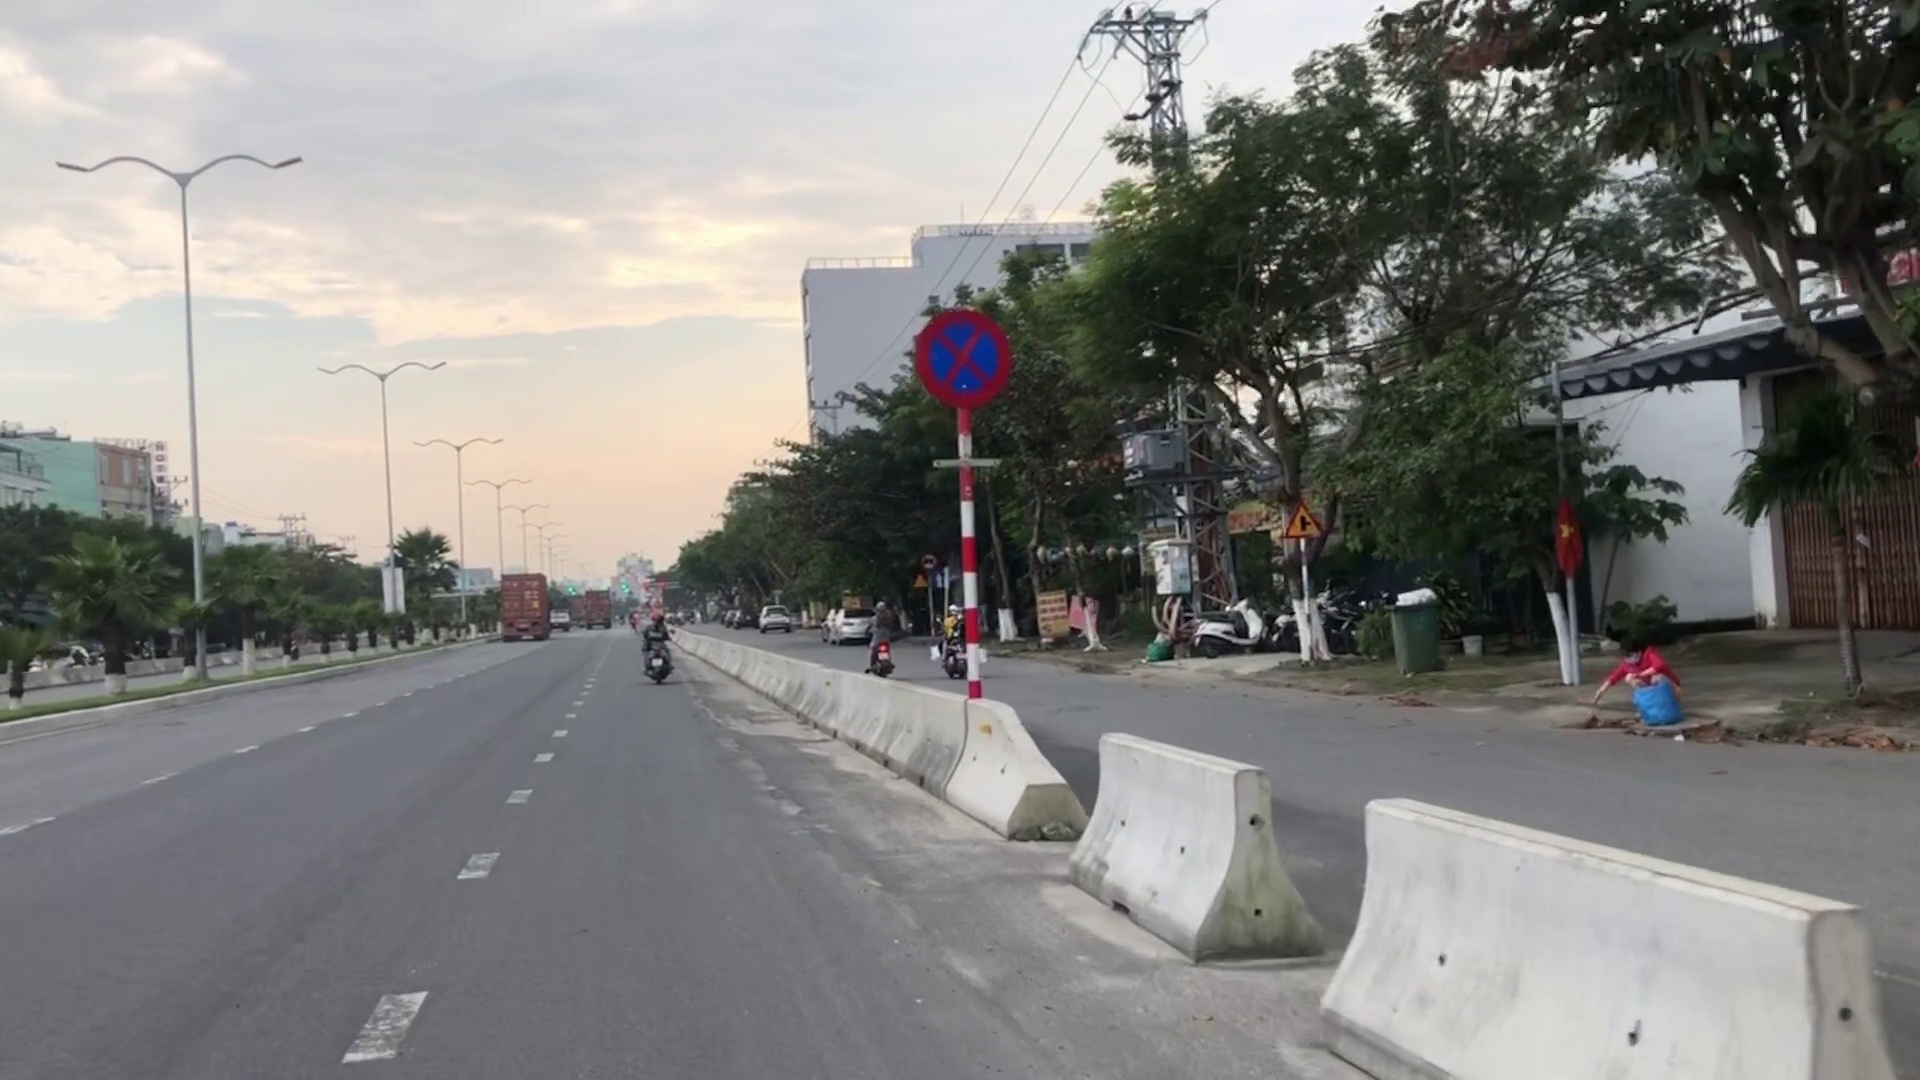Bien khac: (913, 309, 1011, 406)
Giao nhau voi duong khong uu tien: (1283, 501, 1325, 538)
